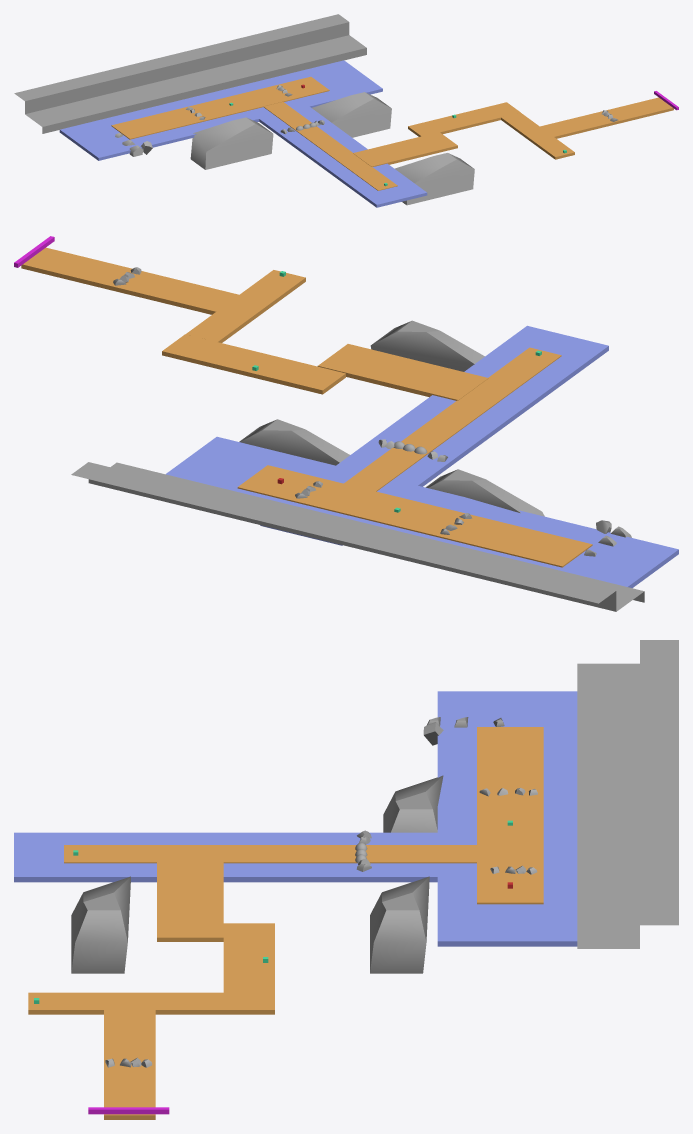
File: Escenario 2.fbx
3 views of the same model, one above another, from view 1: azimuth 30°, elevation 25°; view 2: azimuth 150°, elevation 25°; view 3: azimuth 270°, elevation 25° (orthographic). The views are drawn at different scales.
Parts seen in each view (by area): view 1: pCube52, pCube230, pCube35, pCube56, Roca8, Roca10, Roca9; view 2: pCube230, pCube52, pCube35, pCube56, Roca10, Roca9, Roca8; view 3: pCube230, pCube52, pCube35, pCube56, Roca10, Roca9, Roca8.
Boxes of the visible parts, x1,y1,x2,y2 form: pCube52: [14, 14, 366, 133]; pCube230: [111, 76, 673, 190]; pCube35: [59, 60, 382, 160]; pCube56: [221, 78, 427, 207]; Roca8: [190, 117, 273, 169]; Roca10: [394, 153, 474, 205]; Roca9: [311, 92, 391, 137]; pCube230: [21, 247, 592, 567]; pCube52: [71, 462, 644, 611]; pCube35: [166, 436, 678, 588]; pCube56: [260, 325, 608, 545]; Roca10: [370, 320, 484, 371]; Roca9: [239, 419, 349, 465]; Roca8: [425, 469, 544, 516]; pCube230: [28, 727, 543, 1119]; pCube52: [577, 640, 678, 948]; pCube35: [437, 691, 577, 946]; pCube56: [14, 832, 577, 882]; Roca10: [71, 876, 130, 973]; Roca9: [370, 876, 429, 973]; Roca8: [383, 775, 443, 832].
Bounding box in the file's own units: 203 × 16.78 × 129.
